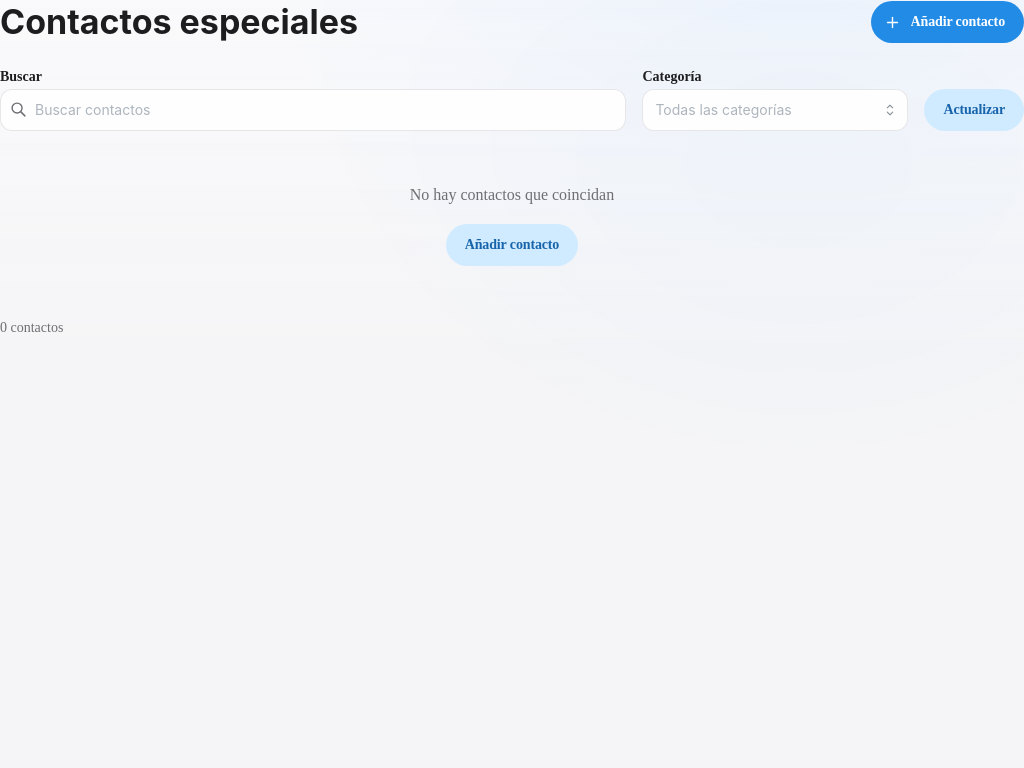
Test: creates a contact with labelled Spanish fields and includes unadded phone and email
This screenshot has width=1024, height=768.
Click the button "Añadir contacto" in the row of "Contactos especiales". click: (947,22)
box: left=870, top=1, right=1023, bottom=43
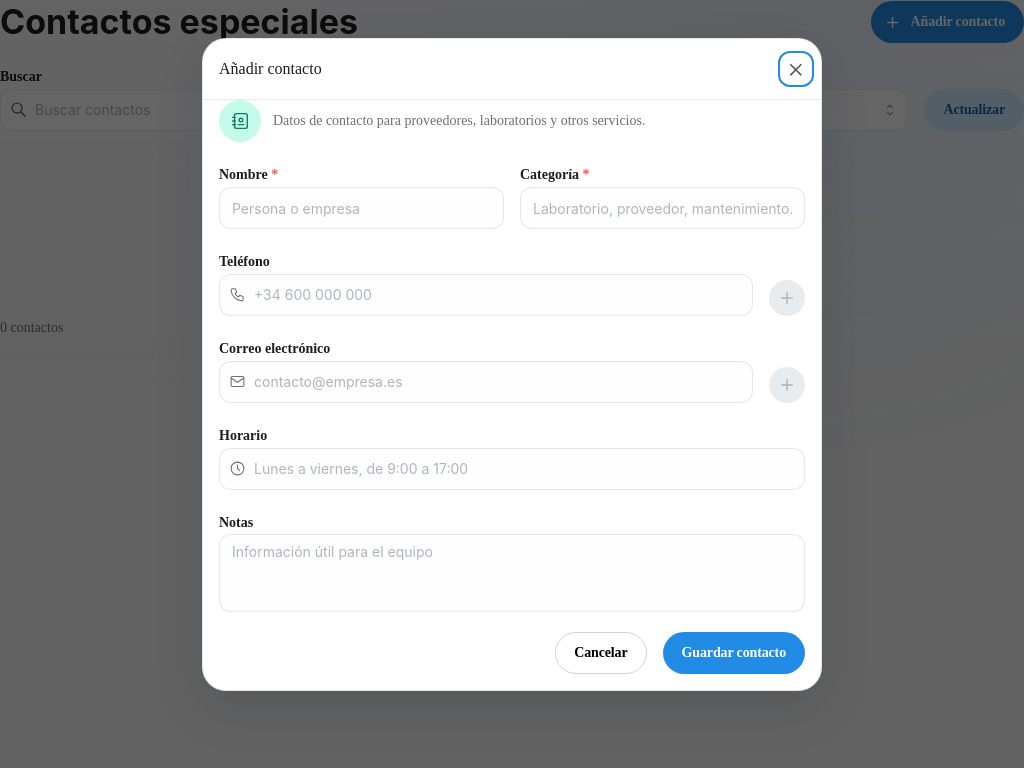
Type "Ana" into the field labelled "Nombre *". click: (362,208)
box: left=219, top=187, right=504, bottom=229
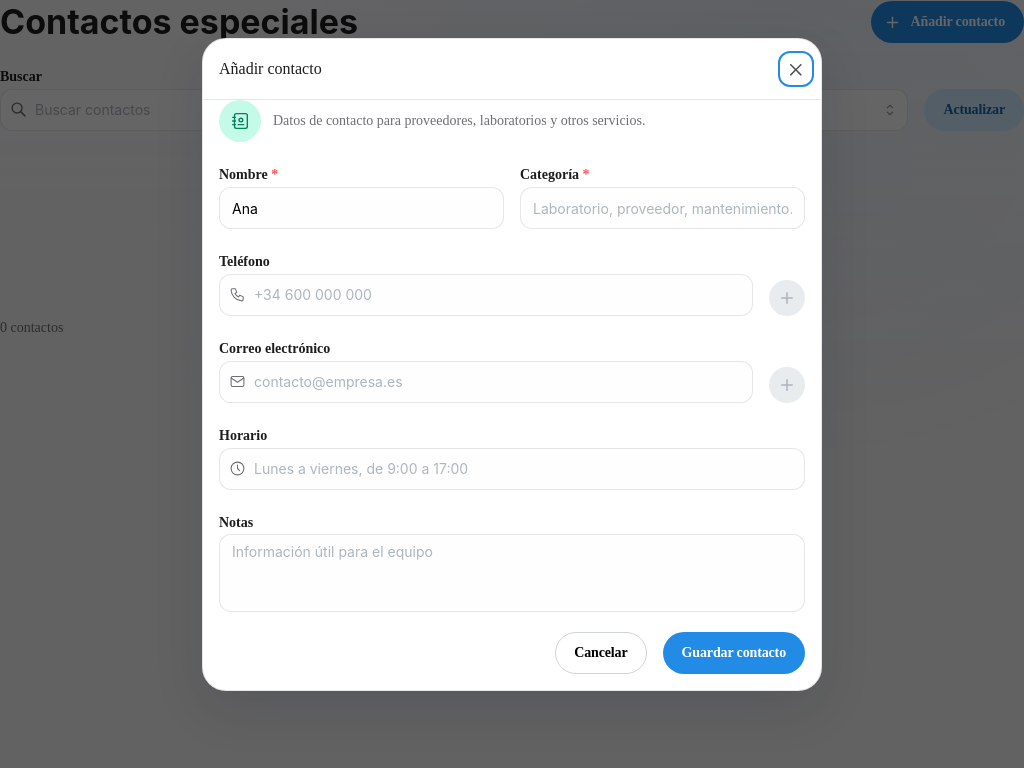
Type "Laboratorio" into the field labelled "Categoría *". click: (662,208)
box: left=520, top=187, right=805, bottom=229
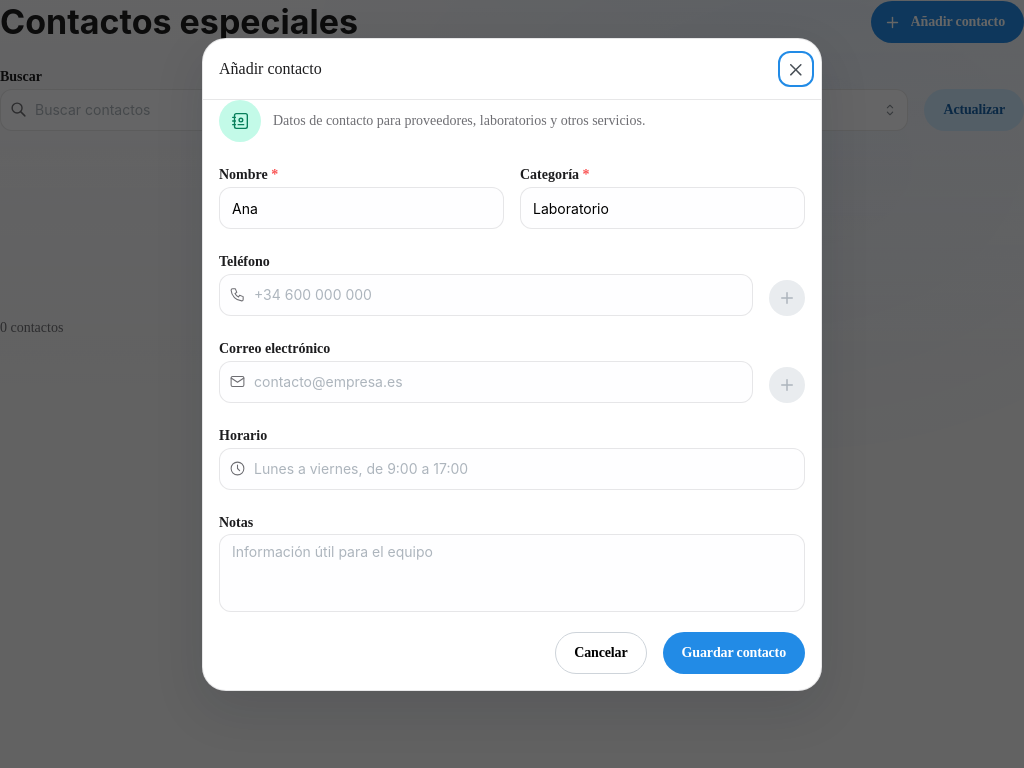
Type "600111222" into the field labelled "Teléfono". click: (486,295)
box: left=219, top=274, right=753, bottom=316
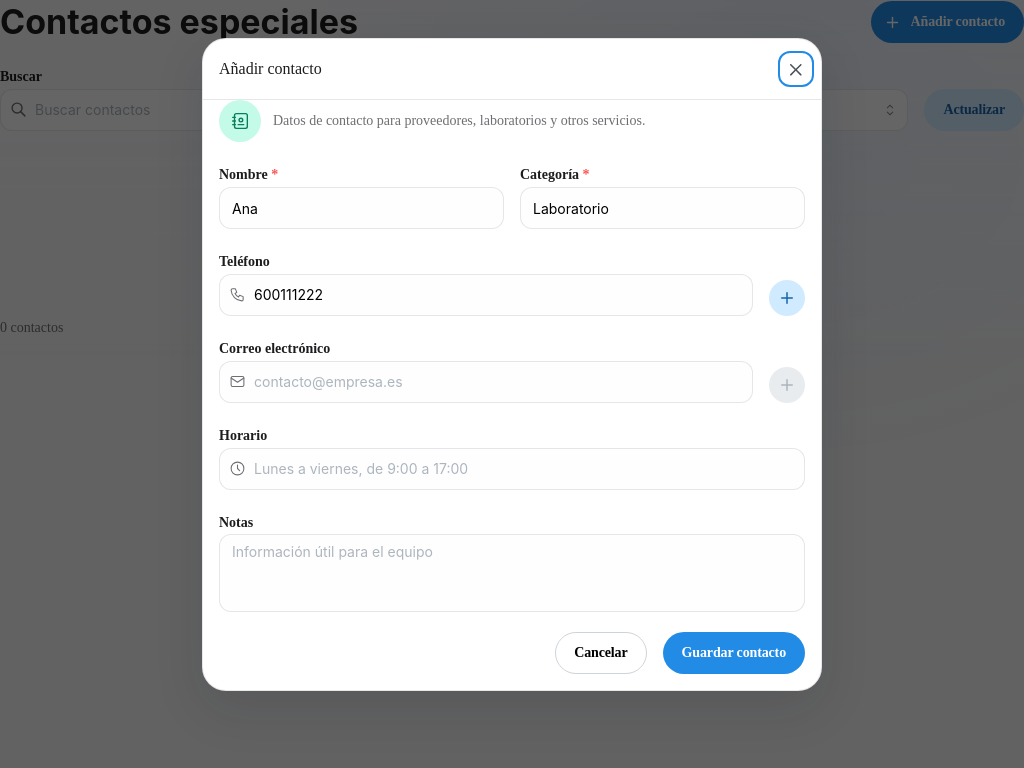
Type "ana@example.com" into the field labelled "Correo electrónico". click: (486,382)
box: left=219, top=361, right=753, bottom=403
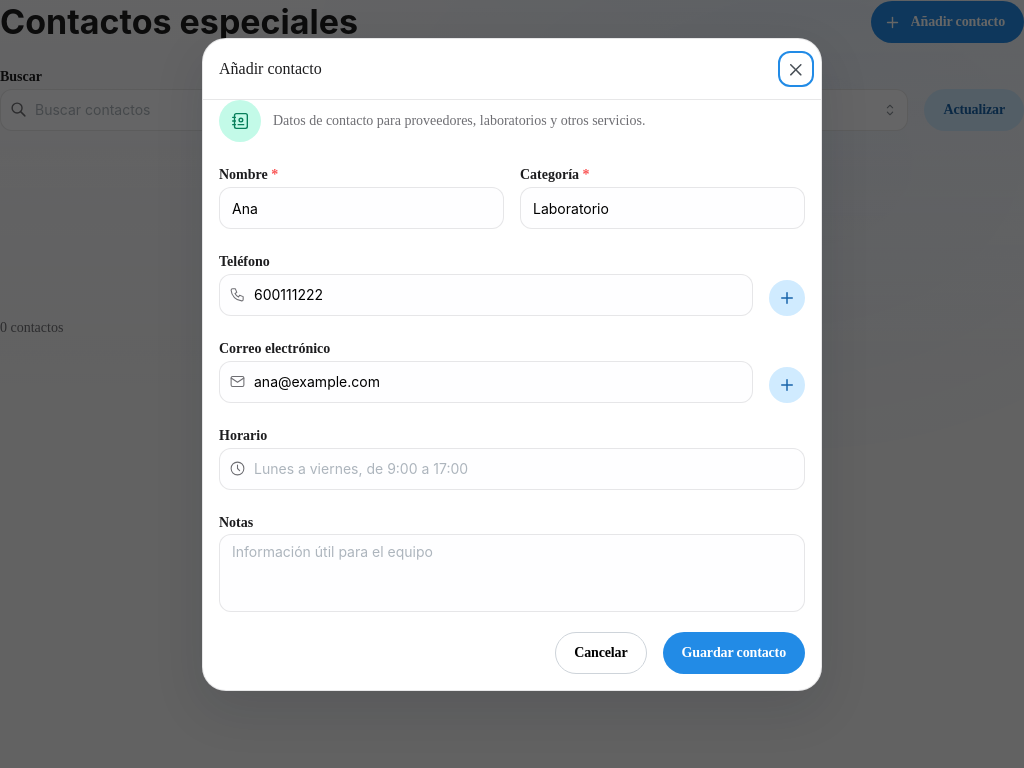
Click the button "Guardar contacto". click: (734,653)
box: left=663, top=632, right=805, bottom=674
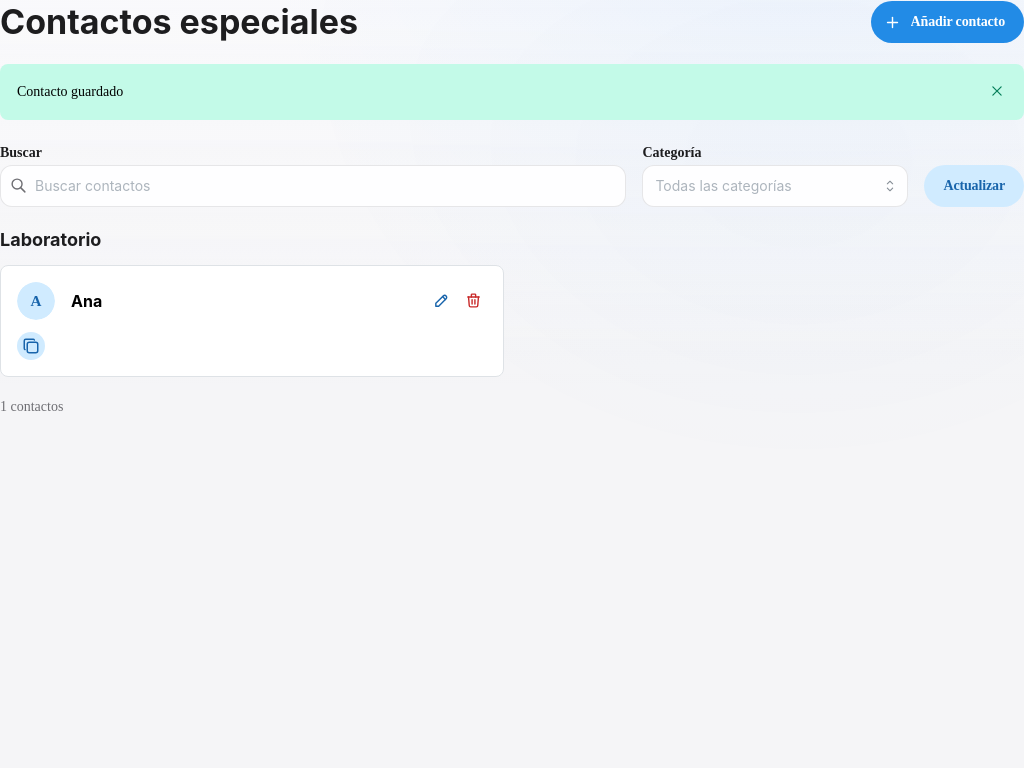
Check: the text "Contacto guardado" is shown, box left=17, top=84, right=123, bottom=99
